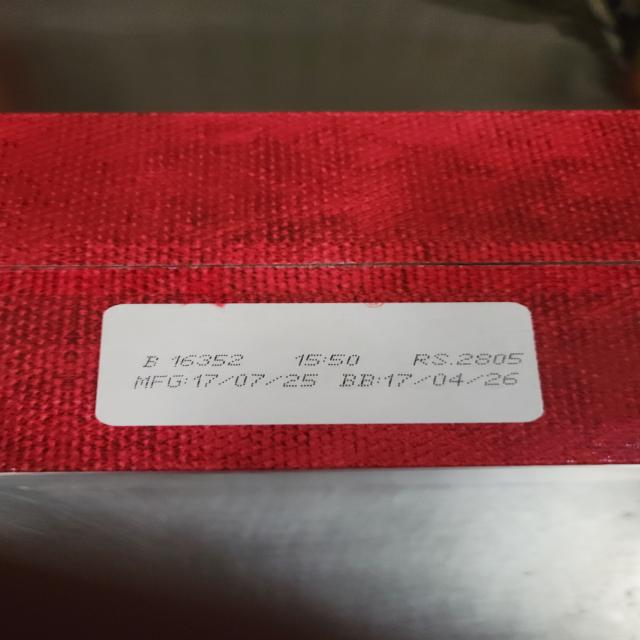BB: (339, 372, 520, 388)
MFG: (137, 373, 320, 389)
